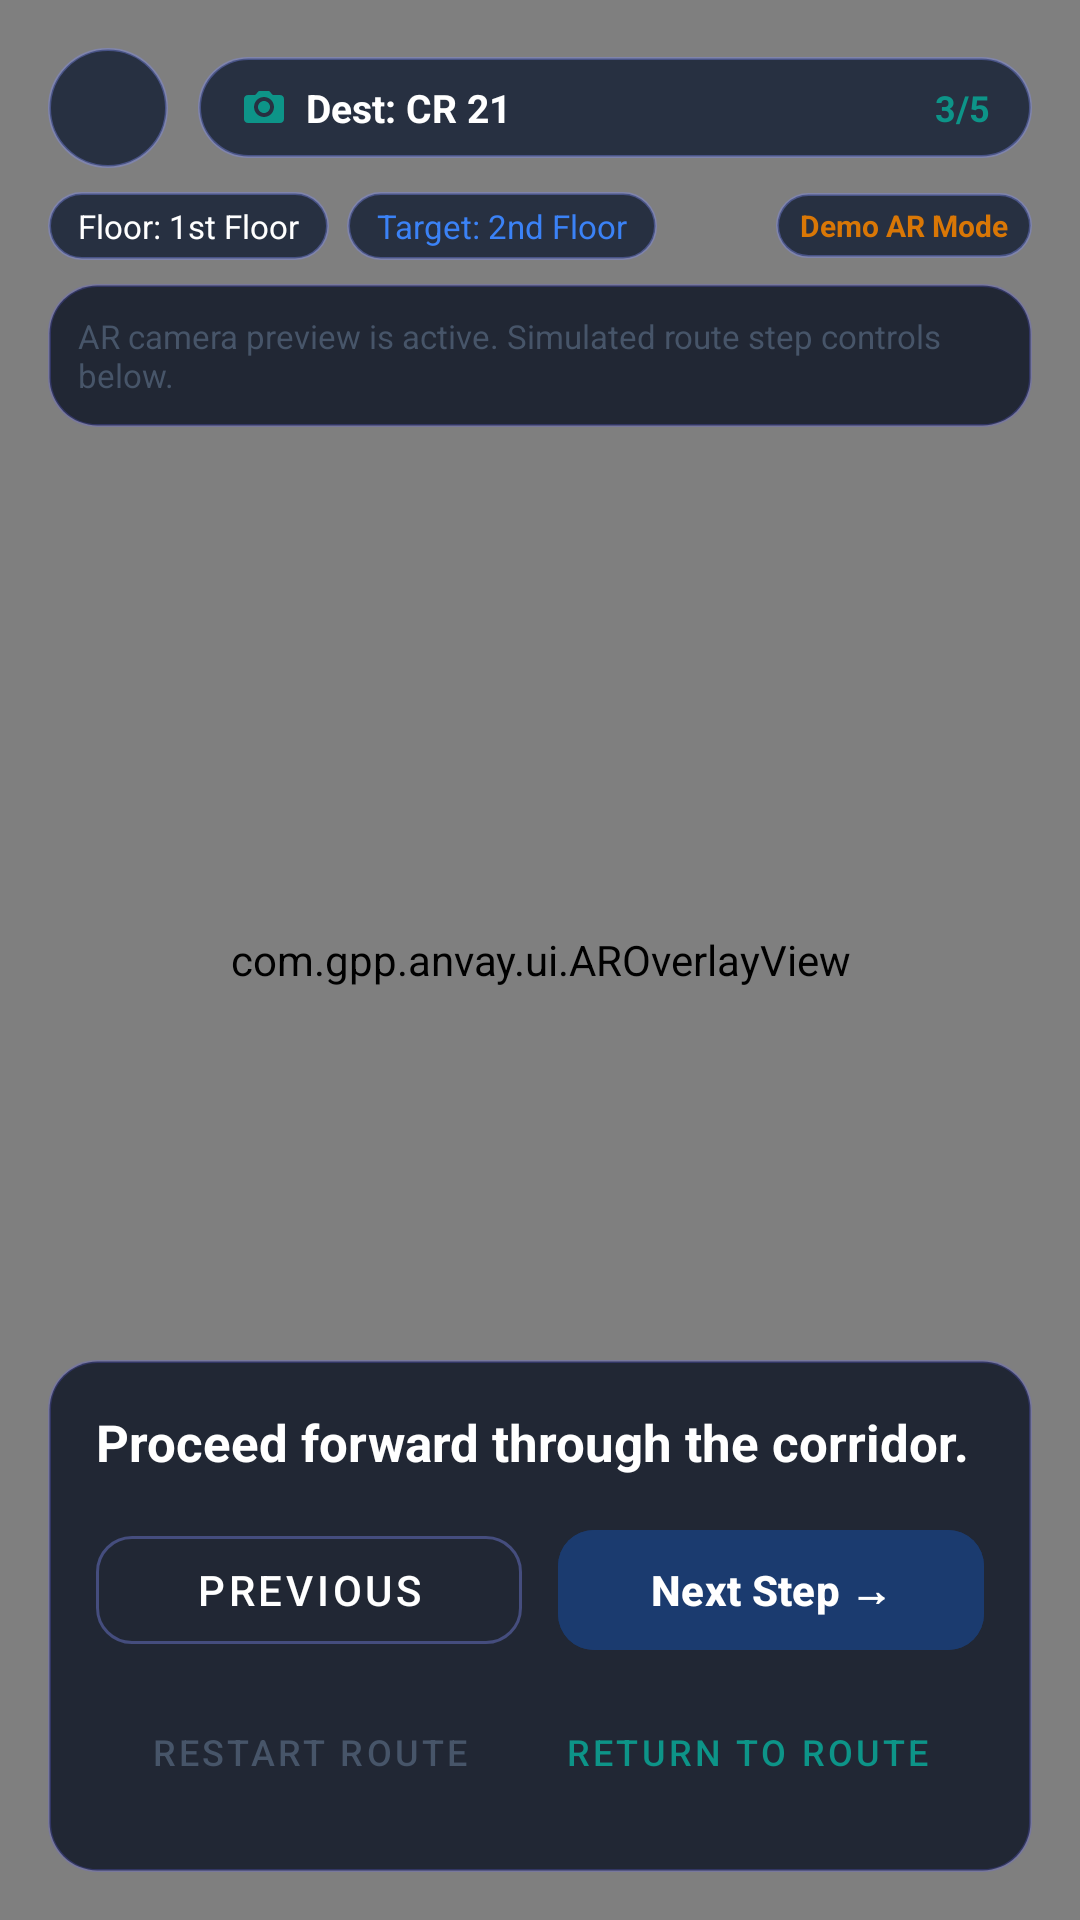

Icon bounding boxes for this 1080px×1920px phone screenshot, format (x1, y1, x2, y2):
camera: (244, 91, 284, 123)
